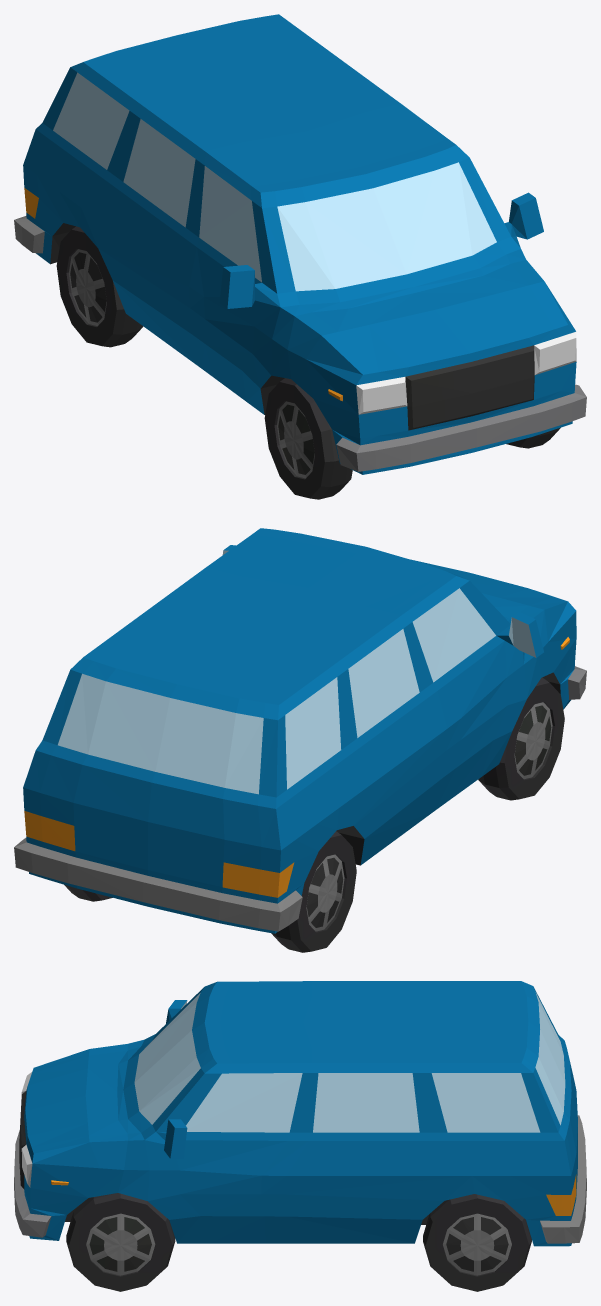
Rendered from wagon.glb.
The picture shows the model from 3 angles, top to bottom: view 1: azimuth 30°, elevation 25°; view 2: azimuth 150°, elevation 25°; view 3: azimuth 270°, elevation 25°; orthographic projection. The views are drawn at different scales.
Parts seen in each view (by area): view 1: Van; view 2: Van; view 3: Van.
Part boxes in pixels (x1=…): Van: x1=14, y1=14, x2=586, y2=499; Van: x1=14, y1=528, x2=586, y2=952; Van: x1=14, y1=981, x2=586, y2=1291.
Bounding box in the file's own units: 43.89 × 34.33 × 80.23.
1 material, 1 textured.
